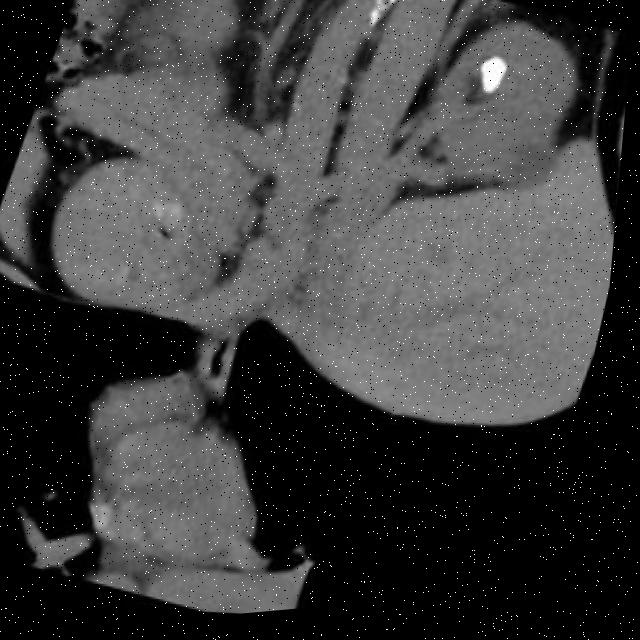Tas_Var: (458, 49, 524, 121)
